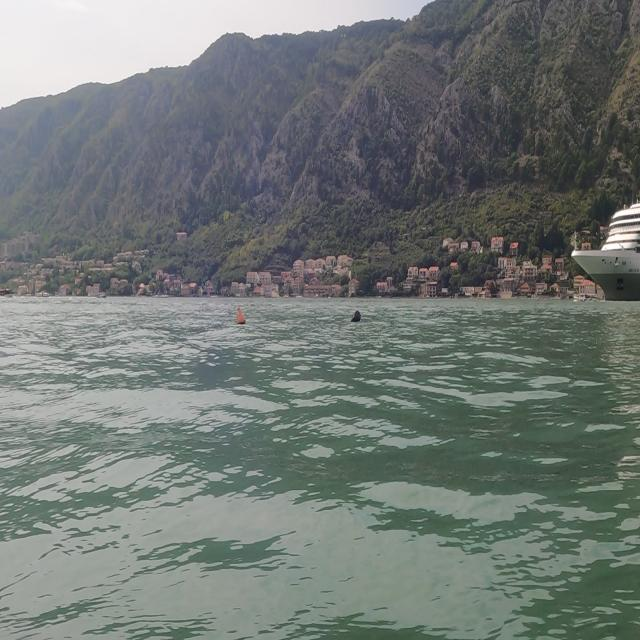boat: (567, 172, 640, 317)
buoy: (231, 302, 250, 336), (348, 306, 369, 330)
